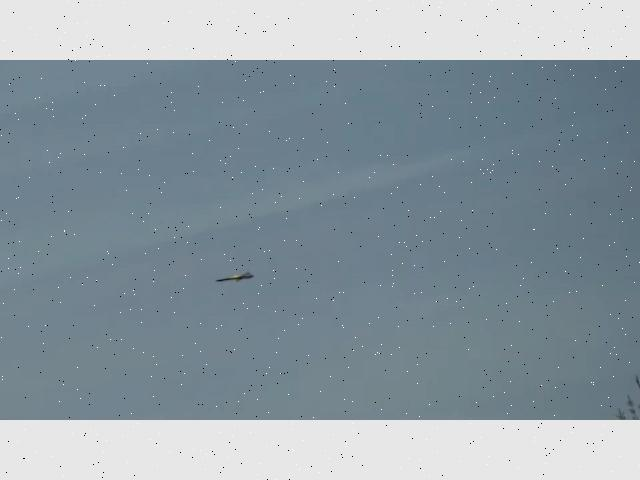Anti-Drone: (216, 272, 254, 284)
